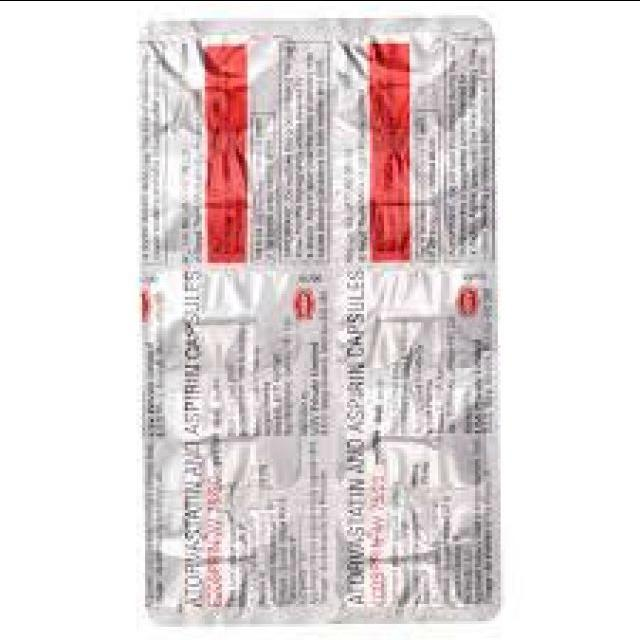authentic: (134, 2, 505, 637)
